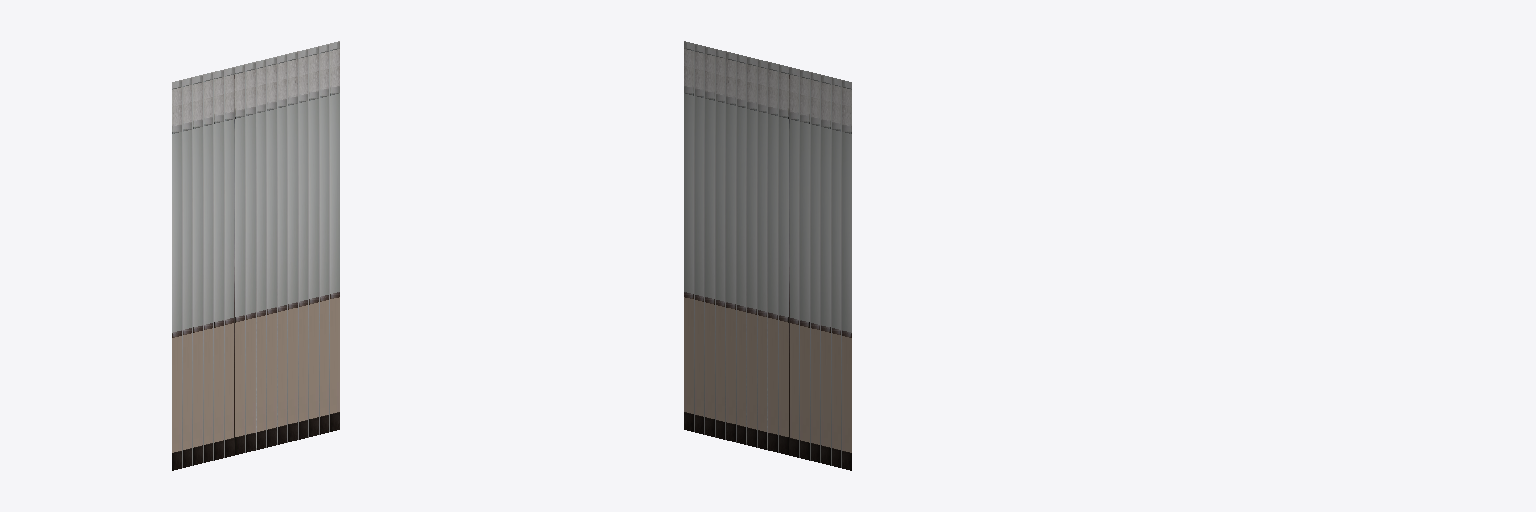
The picture shows the model from 3 angles: view 1: azimuth 30°, elevation 25°; view 2: azimuth 150°, elevation 25°; view 3: azimuth 270°, elevation 25°; orthographic projection.
Visible parts, largest first — view 1: Muro; view 2: Muro; view 3: none.
Boxes of the visible parts, x1=… form: Muro: x1=172, y1=41, x2=339, y2=470; Muro: x1=684, y1=41, x2=851, y2=470.
Size of the model in its own units: 0.4537 by 1 by 0.
Materials: 1 (1 with a texture image).